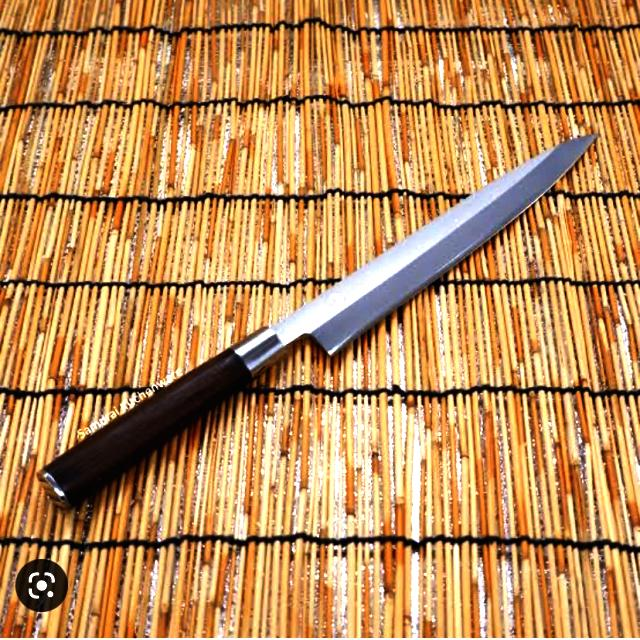knife: (34, 125, 606, 531)
